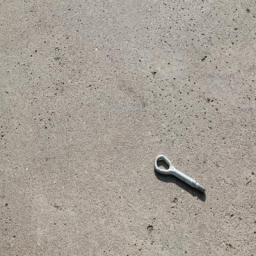FOD: (153, 152, 210, 198)
